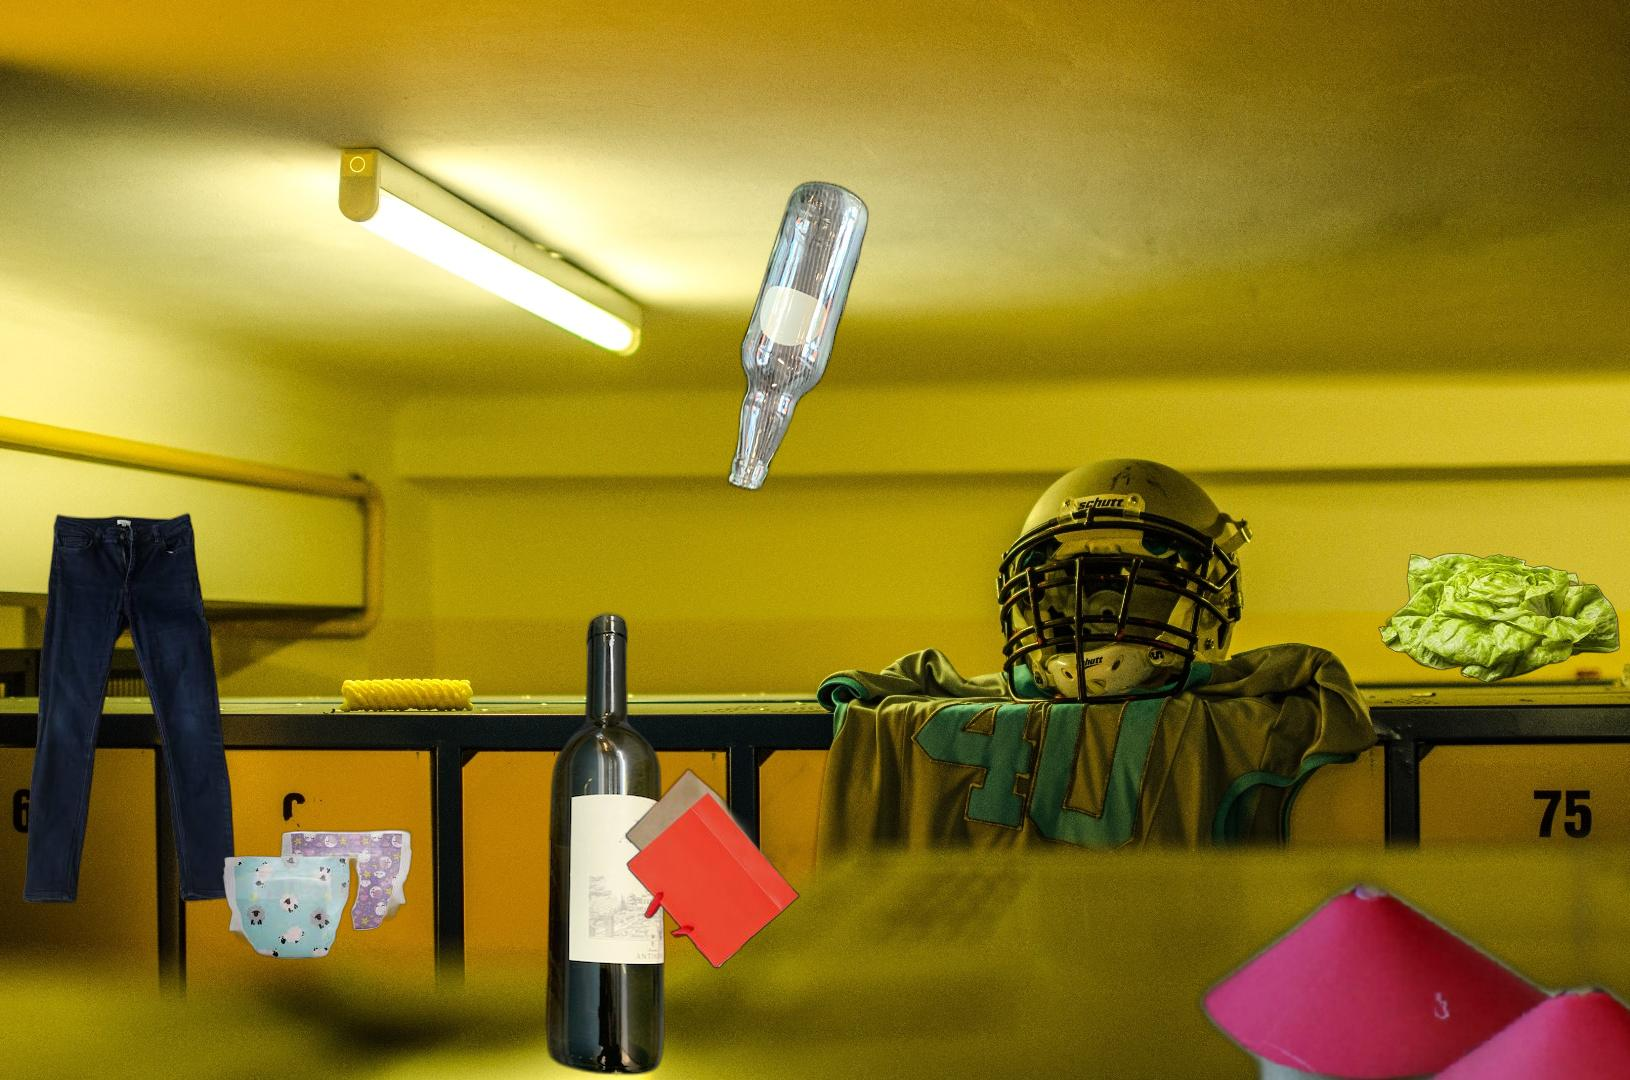biological: (1376, 550, 1622, 685)
clothes: (20, 509, 241, 909)
glass: (541, 607, 669, 1080), (724, 175, 872, 495)
paper-bag: (624, 688, 895, 972)
trash: (220, 824, 422, 962)
trashbox-cardboard: (1185, 803, 1630, 1080)
